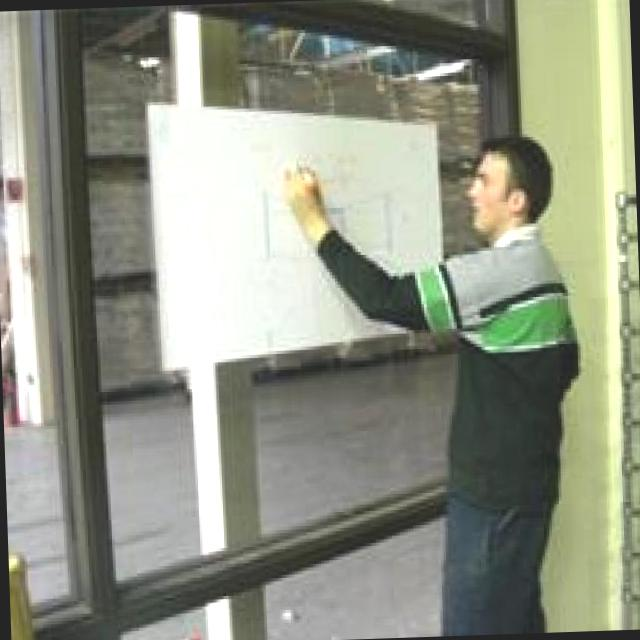no_vest: (414, 220, 591, 528)
